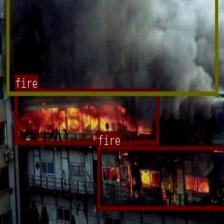fire: (96, 146, 224, 210), (14, 89, 159, 144)
smoke: (6, 0, 217, 95)
